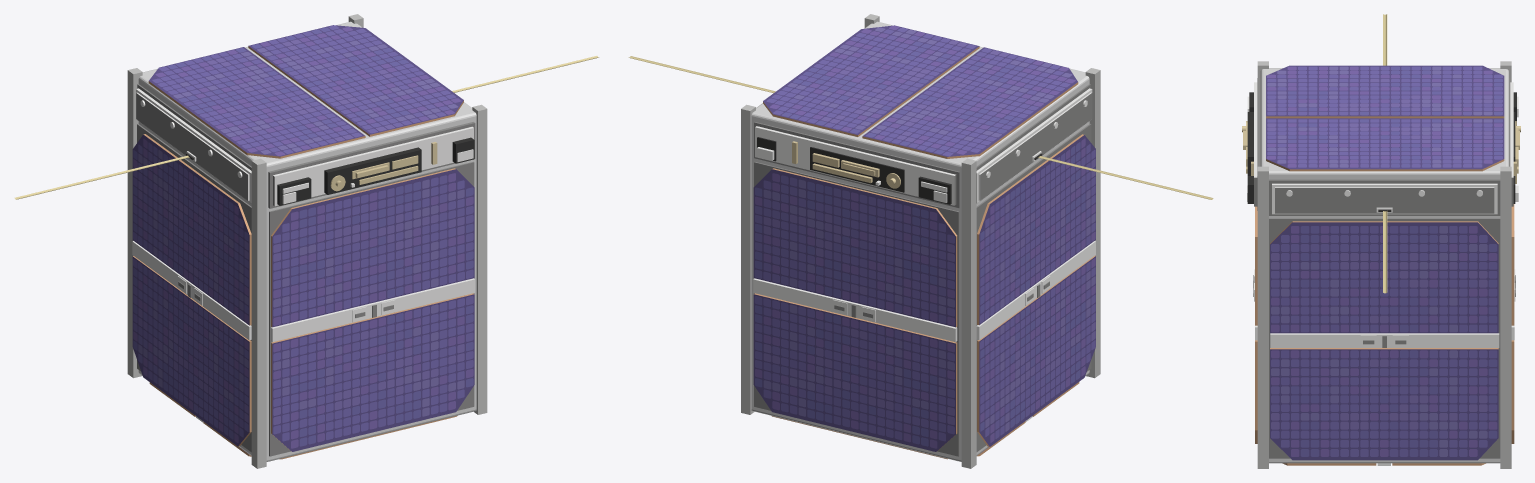
The model's file is CubeSat - 1 RU Generic.glb.
3 views of the same model, side by side, from view 1: azimuth 30°, elevation 25°; view 2: azimuth 150°, elevation 25°; view 3: azimuth 270°, elevation 25° (orthographic). The views are drawn at different scales.
Visible parts, largest first — view 1: Layer_0; view 2: Layer_0; view 3: Layer_0.
Part boxes in pixels (<box>): Layer_0: <box>14,14,598,468</box>; Layer_0: <box>628,14,1213,468</box>; Layer_0: <box>1242,14,1520,468</box>.
Size of the model in its own units: 5.19 by 2.6 by 2.2.
